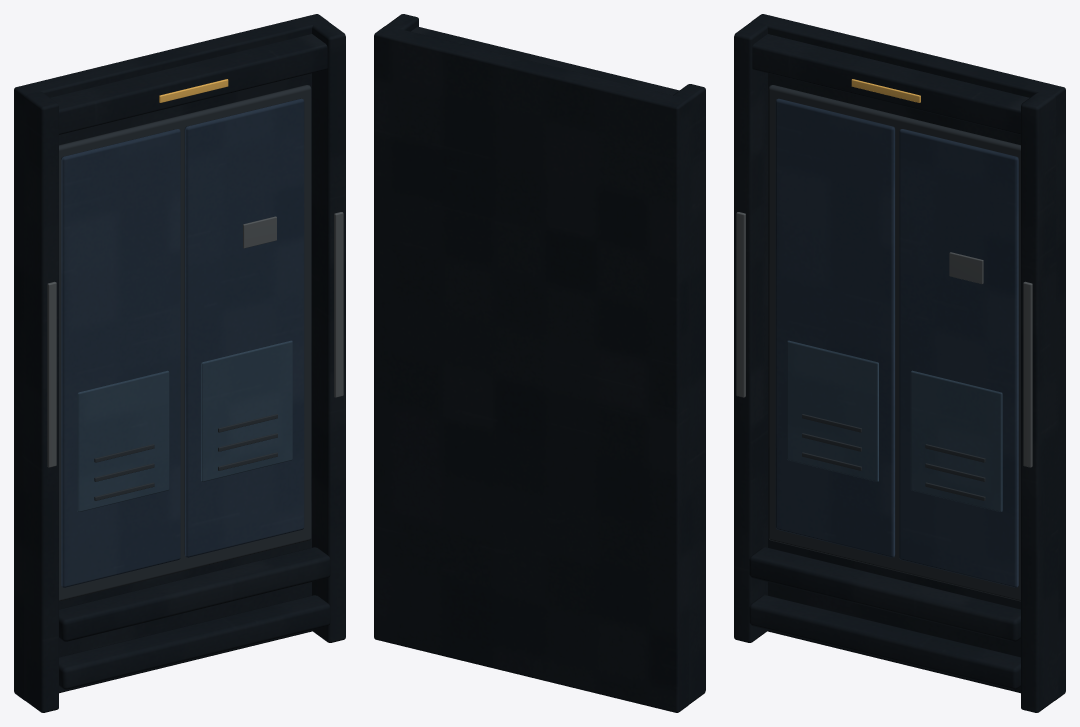
The model's file is wall-2m.glb.
3 views of the same model, side by side, from view 1: azimuth 30°, elevation 25°; view 2: azimuth 150°, elevation 25°; view 3: azimuth 330°, elevation 25° (orthographic).
Parts seen in each view (by area): view 1: Dock_Wall_2m.003; view 2: Dock_Wall_2m.003; view 3: Dock_Wall_2m.003.
Part boxes in pixels (<box>): Dock_Wall_2m.003: <box>14,14,345,712</box>; Dock_Wall_2m.003: <box>374,14,705,712</box>; Dock_Wall_2m.003: <box>734,14,1065,712</box>.
Size of the model in its own units: 2 by 3.8 by 0.37.
1 material, 1 textured.
